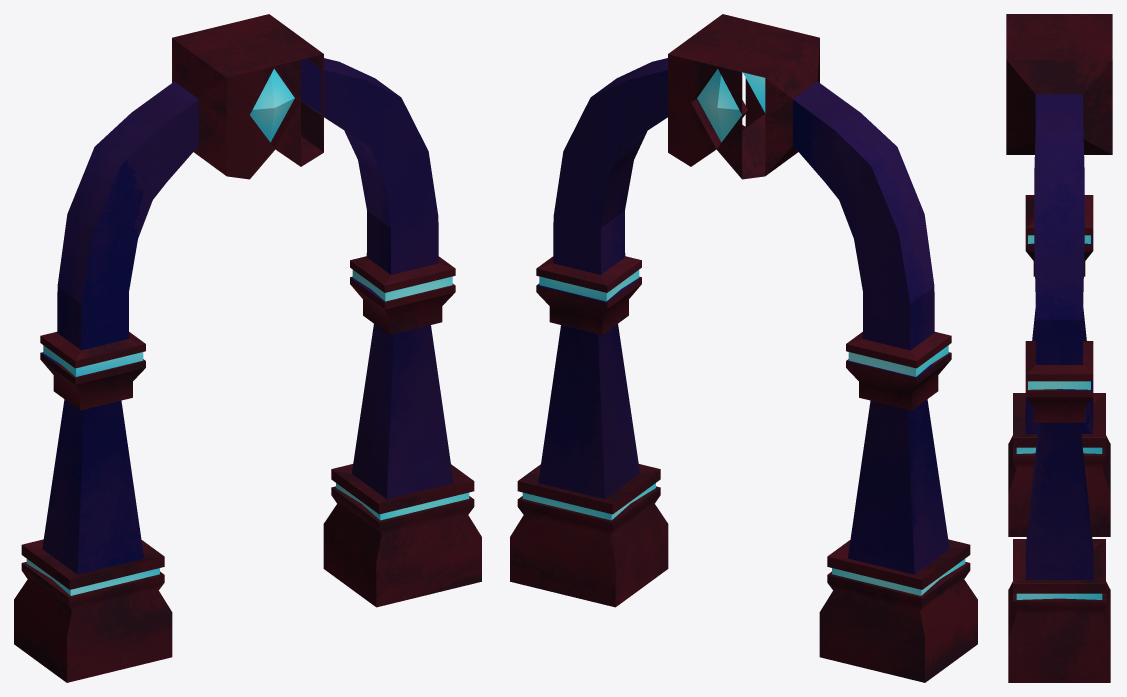
Rendered from ARCO_R.obj.
The picture shows the model from 3 angles, left to right: view 1: azimuth 30°, elevation 25°; view 2: azimuth 150°, elevation 25°; view 3: azimuth 270°, elevation 25°; orthographic projection. The views are drawn at different scales.
Parts seen in each view (by area): view 1: pCube1_pCube1SG_6, pCube1_pCube1SG1_23, pCube1_pCube1SG1_7, pCube1_pCube1SG_27, pCube1_pCube1SG1_6, pCube1_pCube1SG1_22, pCube1_pCube1SG_29, pCube1_pCube1SG1_19, pCube1_pCube1SG1_25, pCube1_pCube1SG_12, pCube1_pCube1SG_7, pCube1_pCube1SG_28 (+29 smaller); view 2: pCube1_pCube1SG1_17, pCube1_pCube1SG1_1, pCube1_pCube1SG, pCube1_pCube1SG_21, pCube1_pCube1SG1, pCube1_pCube1SG1_16, pCube1_pCube1SG1_25, pCube1_pCube1SG1_19, pCube1_pCube1SG_23, pCube1_pCube1SG_2, pCube1_pCube1SG_12, pCube1_pCube1SG_6 (+31 smaller); view 3: pCube1_pCube1SG1_3, pCube1_pCube1SG1_9, pCube1_pCube1SG1_8, pCube1_pCube1SG1_2, pCube1_pCube1SG_8, pCube1_pCube1SG_2, pCube1_pCube1SG_6, pCube1_pCube1SG_27, pCube1_pCube1SG_12, pCube1_pCube1SG_10, pCube1_pCube1SG_4, pCube1_pCube1SG_33 (+27 smaller).
Boxes of the visible parts, left/top/right/bottom form: pCube1_pCube1SG_6: left=323, top=469, right=481, bottom=607; pCube1_pCube1SG1_23: left=81, top=99, right=198, bottom=350; pCube1_pCube1SG1_7: left=324, top=70, right=438, bottom=274; pCube1_pCube1SG_27: left=14, top=556, right=172, bottom=682; pCube1_pCube1SG1_6: left=387, top=325, right=453, bottom=498; pCube1_pCube1SG1_22: left=77, top=400, right=143, bottom=574; pCube1_pCube1SG_29: left=40, top=66, right=275, bottom=637; pCube1_pCube1SG1_19: left=57, top=81, right=186, bottom=341; pCube1_pCube1SG1_25: left=69, top=90, right=198, bottom=350; pCube1_pCube1SG_12: left=274, top=66, right=386, bottom=606; pCube1_pCube1SG_7: left=384, top=263, right=455, bottom=334; pCube1_pCube1SG_28: left=75, top=339, right=145, bottom=410; pCube1_pCube1SG1_17: left=793, top=99, right=910, bottom=350; pCube1_pCube1SG1_1: left=553, top=70, right=667, bottom=274; pCube1_pCube1SG: left=510, top=481, right=615, bottom=607; pCube1_pCube1SG_21: left=819, top=556, right=924, bottom=682; pCube1_pCube1SG1: left=538, top=325, right=604, bottom=498; pCube1_pCube1SG1_16: left=848, top=400, right=914, bottom=574; pCube1_pCube1SG1_25: left=805, top=81, right=934, bottom=341; pCube1_pCube1SG1_19: left=793, top=90, right=922, bottom=350; pCube1_pCube1SG_23: left=716, top=66, right=951, bottom=637; pCube1_pCube1SG_2: left=518, top=54, right=716, bottom=482; pCube1_pCube1SG_12: left=623, top=98, right=721, bottom=587; pCube1_pCube1SG_6: left=605, top=464, right=660, bottom=606; pCube1_pCube1SG1_3: left=1059, top=94, right=1084, bottom=364; pCube1_pCube1SG1_9: left=1034, top=94, right=1059, bottom=364; pCube1_pCube1SG1_8: left=1025, top=422, right=1059, bottom=579; pCube1_pCube1SG1_2: left=1059, top=422, right=1093, bottom=579; pCube1_pCube1SG_8: left=1006, top=60, right=1059, bottom=639; pCube1_pCube1SG_2: left=1059, top=60, right=1112, bottom=639; pCube1_pCube1SG_6: left=1008, top=539, right=1110, bottom=682; pCube1_pCube1SG_27: left=1008, top=393, right=1110, bottom=536; pCube1_pCube1SG_12: left=1008, top=539, right=1059, bottom=682; pCube1_pCube1SG_10: left=1006, top=49, right=1059, bottom=154; pCube1_pCube1SG_4: left=1059, top=49, right=1112, bottom=154; pCube1_pCube1SG_33: left=1008, top=434, right=1037, bottom=536.
Bounding box in the file's own units: 469 × 612 × 107.
Materials: 3 (3 with a texture image).
